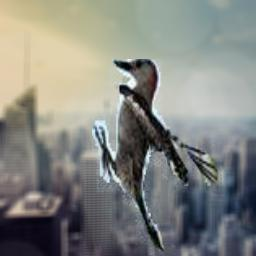Woodpecker: (92, 59, 222, 255)
